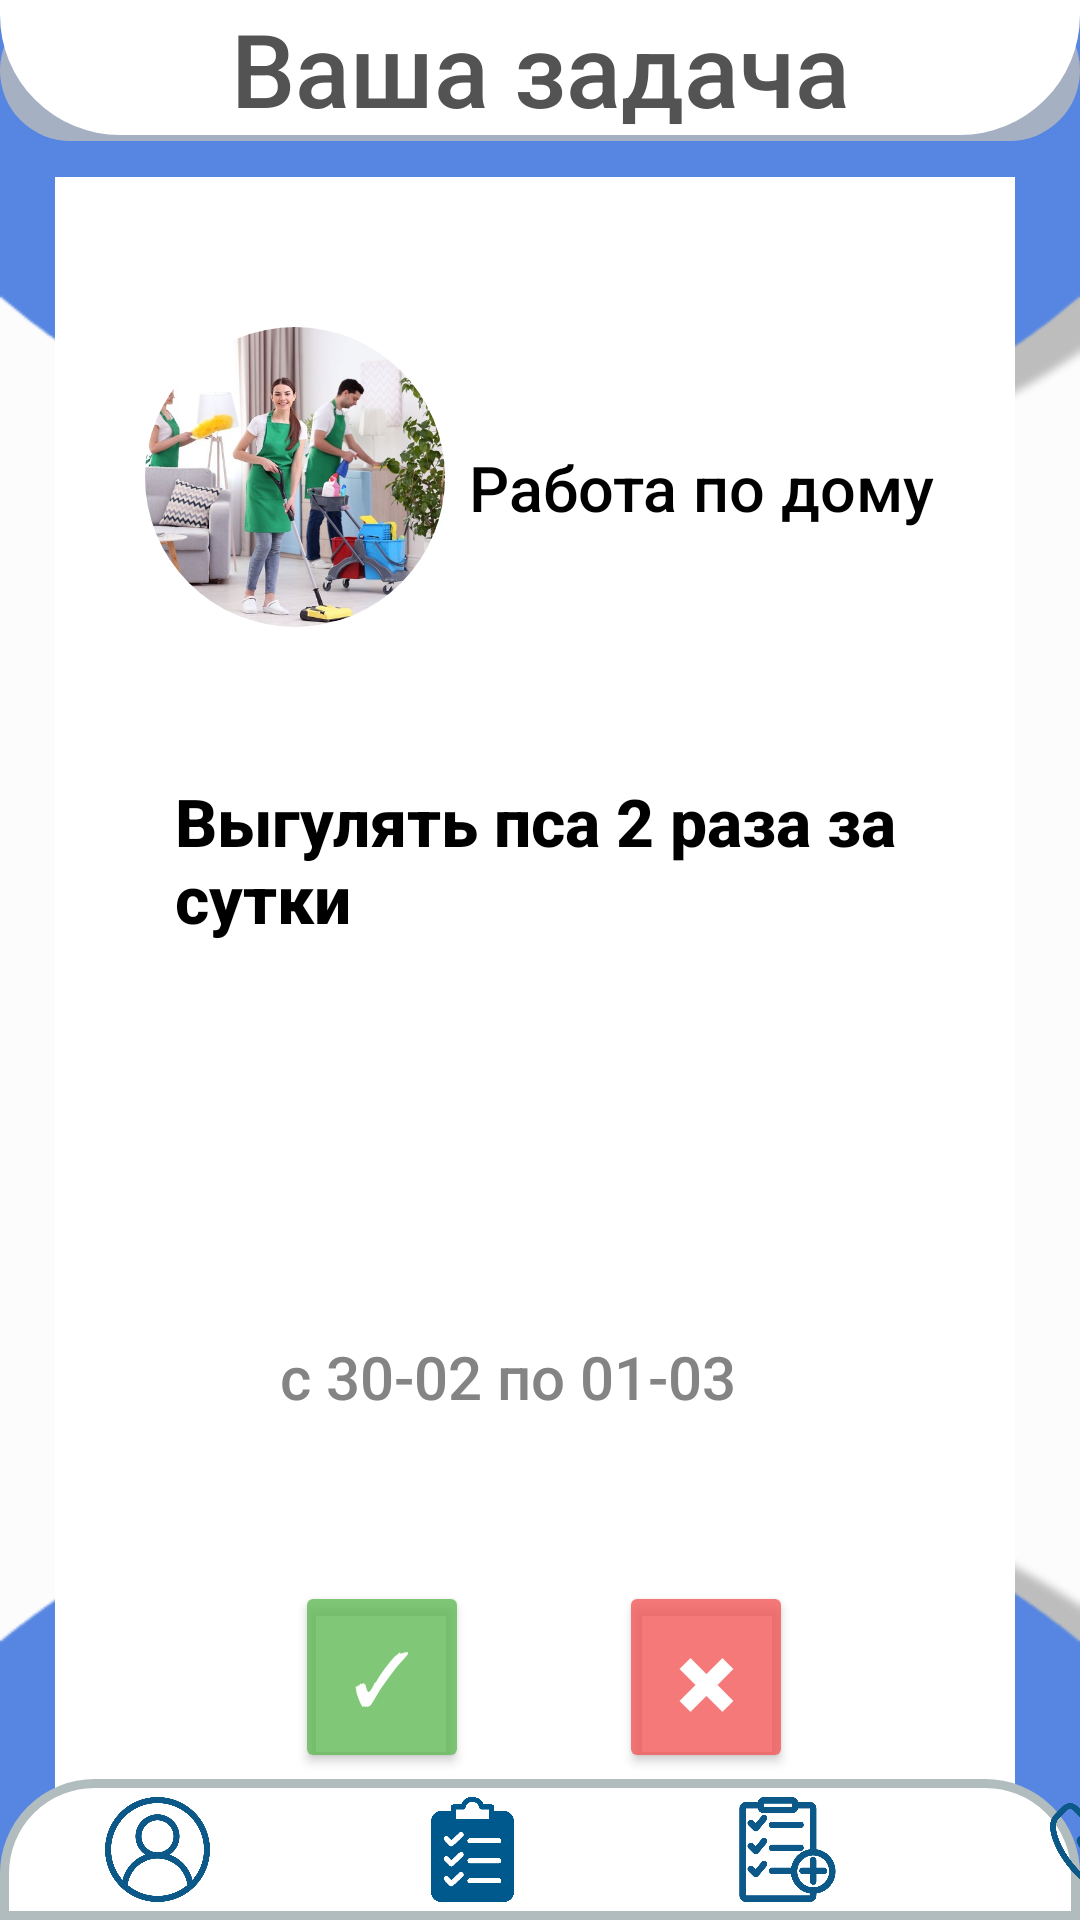

Point at icon controls on the screen. Image size 1080 x 1920, points as (x,y).
addtask: (787,1849)
housework: (295,477)
taskclicked: (472,1849)
toprofile: (157,1849)
